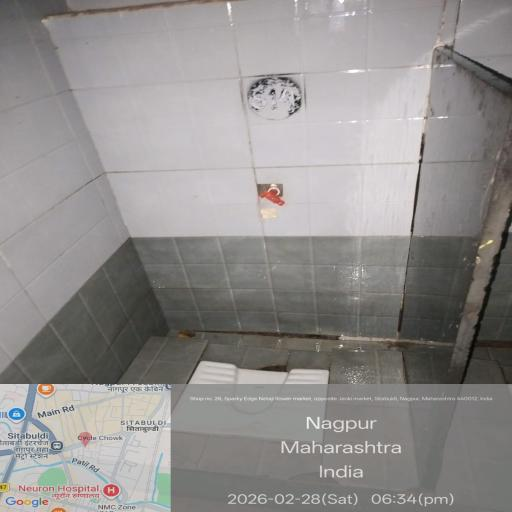clean_floor: (60, 14, 461, 285)
clean_indian: (182, 363, 329, 432)
partial_dirty_floor: (78, 306, 504, 512)
